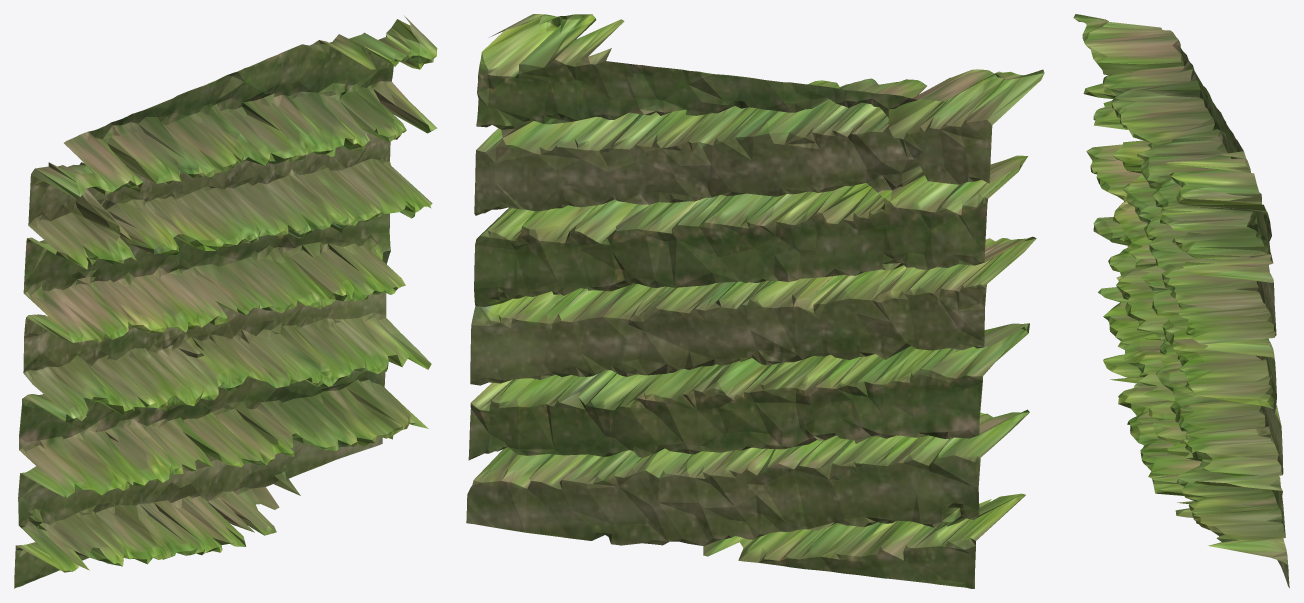
File: map_130_0.obj
3 renders of one model, left to right at view 1: azimuth 30°, elevation 25°; view 2: azimuth 150°, elevation 25°; view 3: azimuth 270°, elevation 25°, orthographic. The views are drawn at different scales.
Visible parts, largest first — view 1: grp1; view 2: grp1; view 3: grp1.
Boxes of the visible parts, x1,y1,x2,y2 form: grp1: [14, 16, 437, 588]; grp1: [466, 14, 1044, 588]; grp1: [1073, 14, 1289, 588].
Size of the model in its own units: 10 by 10 by 5.
1 material, 1 textured.
